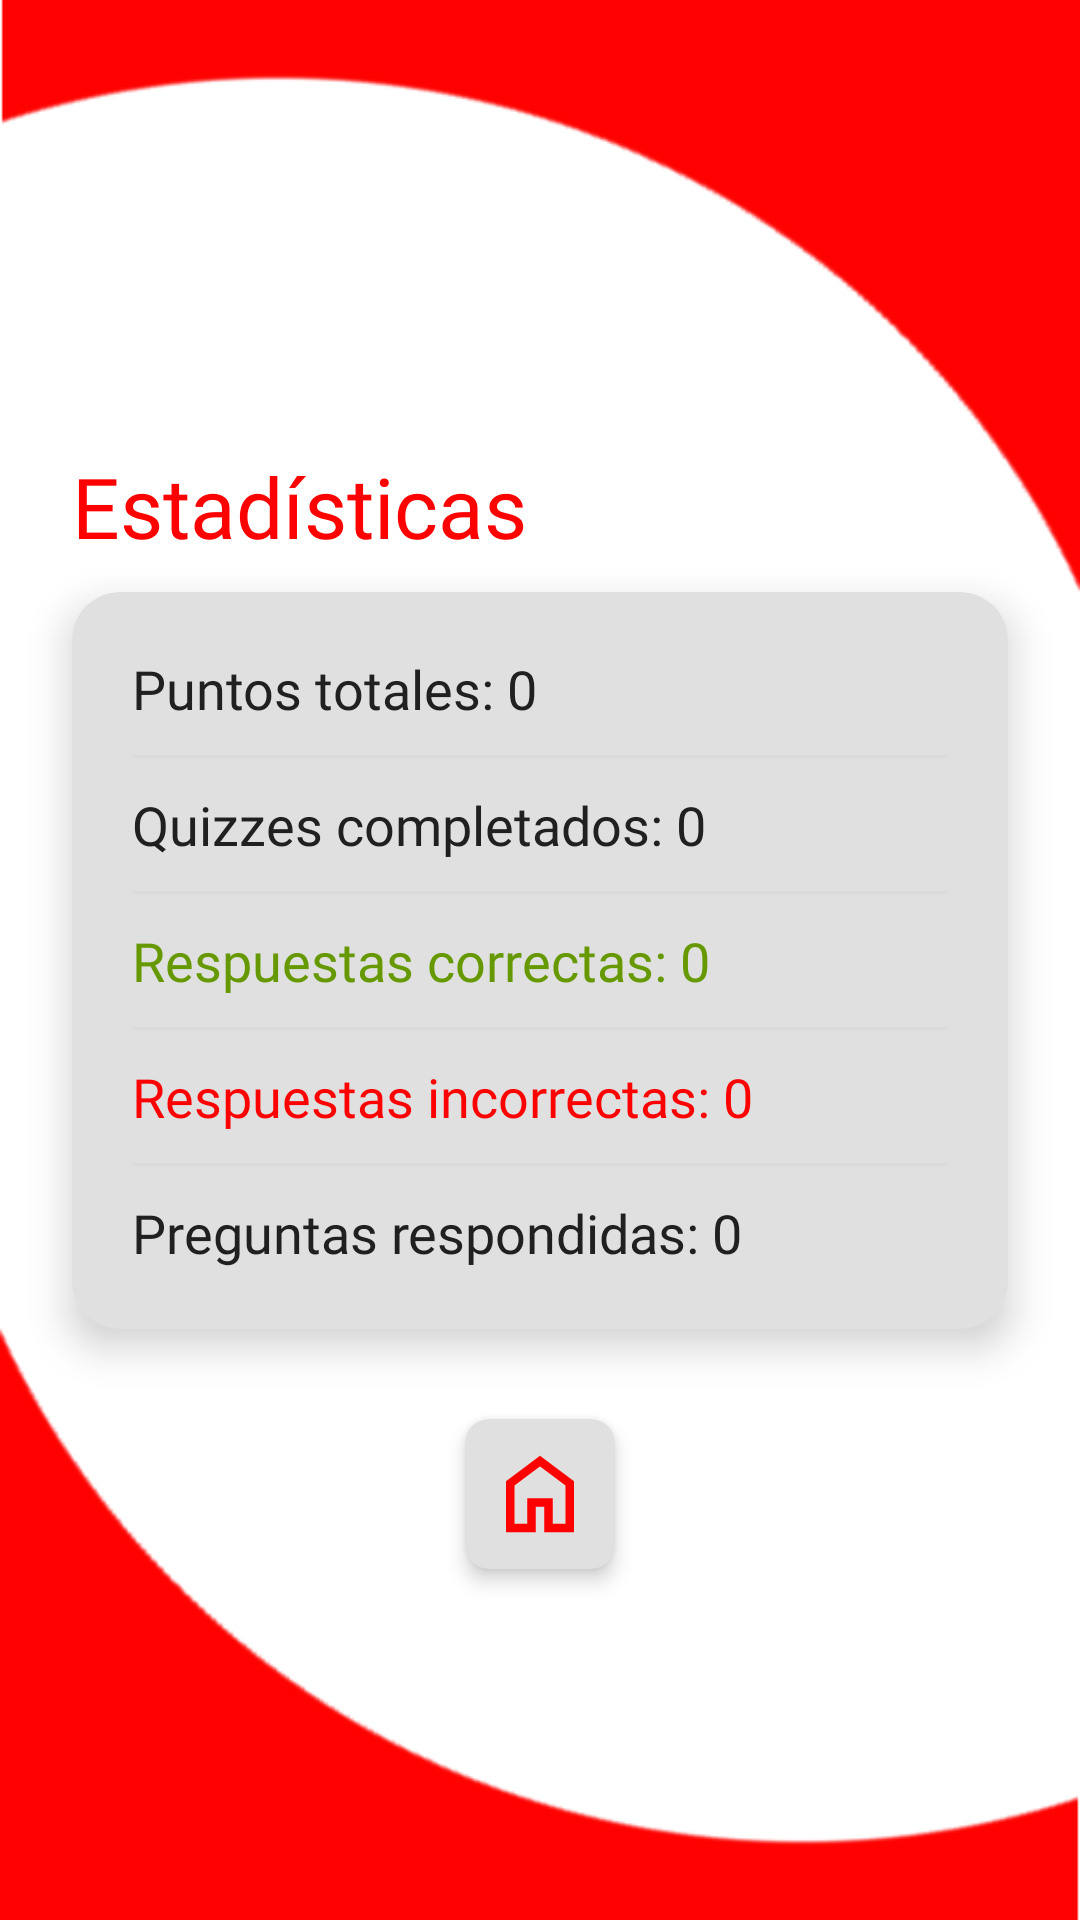

Where to tap for icons on this 1080 x 1920 app screen, as point (x, y):
home: point (540, 1494)
